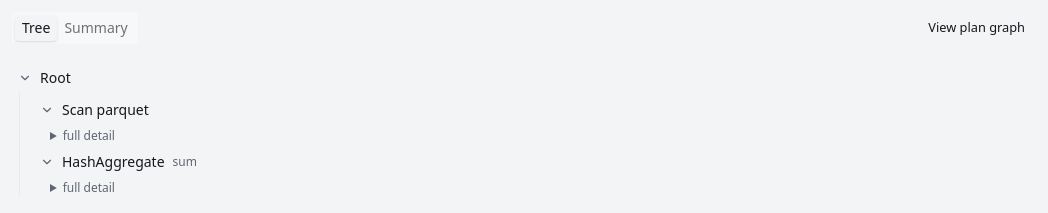
it: PlanView › switches to the Summary tab on click and shows the condensed rollup
The width and height of the screenshot is (1048, 213).
Click the tab "Summary" at [96, 28], box top-left (57, 16), bottom-right (135, 40)
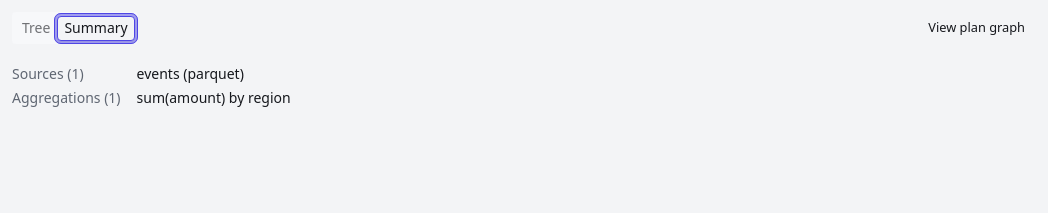
Expected: the text "Sources (1)" is shown, top-left (12, 64), bottom-right (84, 83)
Expected: the text "events (parquet)" is shown, top-left (137, 64), bottom-right (244, 83)
Expected: the text "Aggregations (1)" is shown, top-left (12, 88), bottom-right (121, 108)
